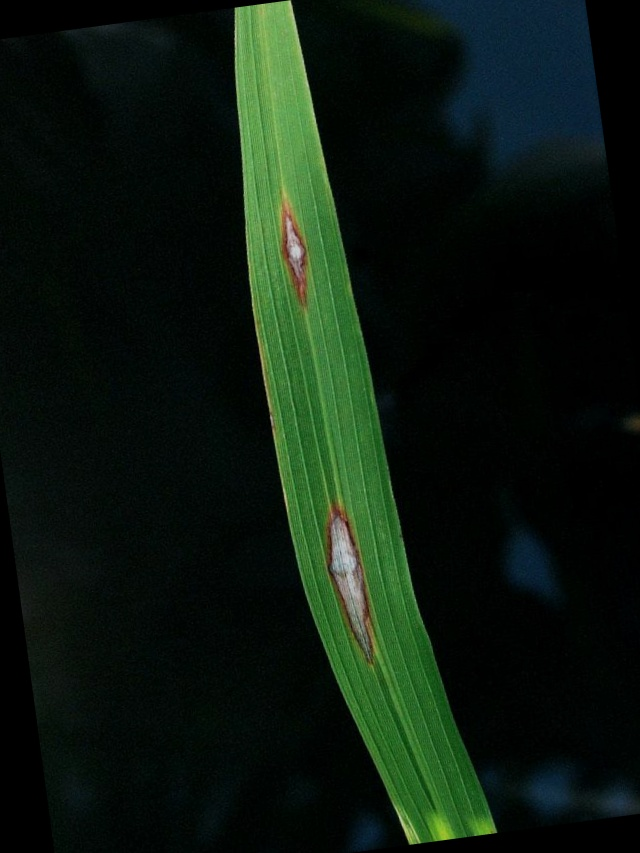Brown_Spot: (320, 500, 390, 681), (262, 192, 318, 316)
